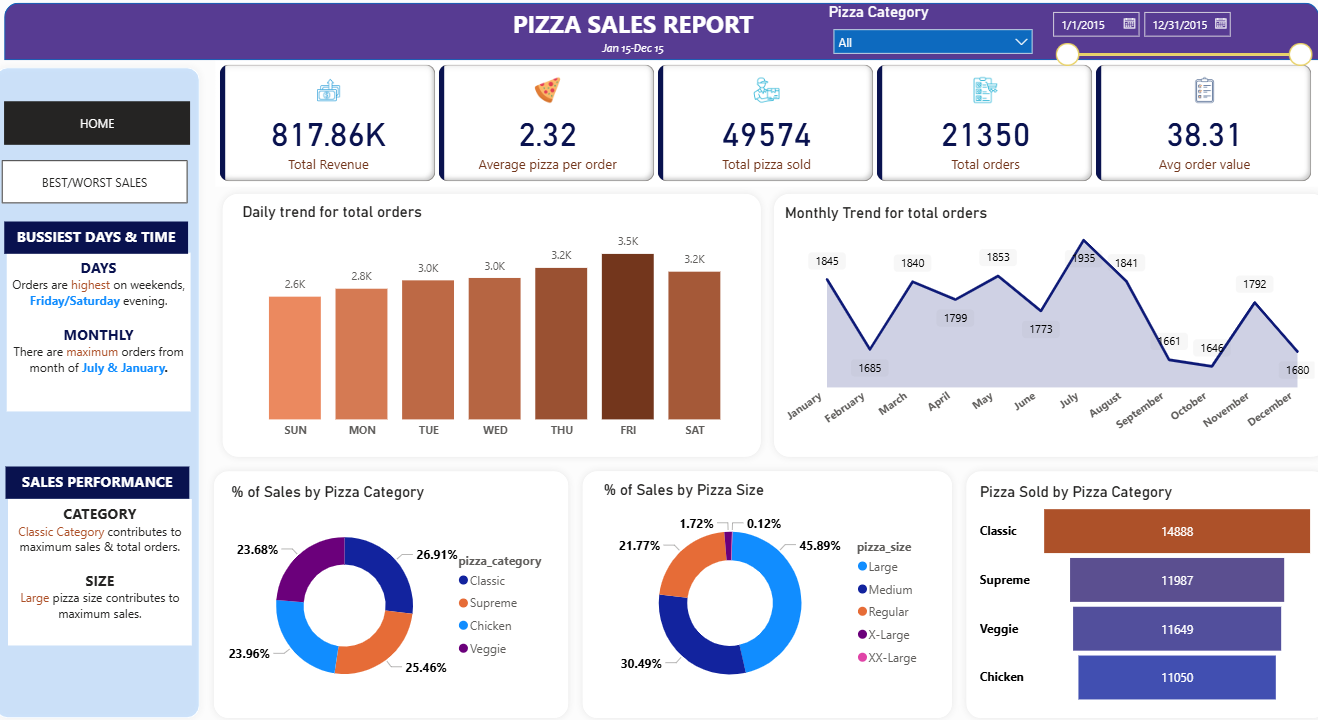

Layout of this report page (visuals, bound fields, positions):
{"tool":"powerbi","page":{"name":"HOME","canvas":[1500,820],"ordinal":0},"visuals":[{"type":"shape","box":[0,79.4,243.7,740.9],"z":0},{"type":"cardVisual","fields":{"Data":["pizza_sales.Total Revenue","pizza_sales.Average pizza per order","pizza_sales.Total pizza sold","pizza_sales.Total orders","pizza_sales.Avg order value"]},"box":[253.5,79.4,1229.7,140.7],"z":1000},{"type":"shape","box":[18.1,15.3,1465.1,64.1],"z":2000},{"type":"textbox","box":[537.6,15.3,362.1,50.1],"z":3000},{"type":"textbox","box":[664.3,51.5,108.6,27.9],"z":4000},{"type":"shape","box":[253.5,220,615.6,309.2],"z":5000},{"type":"columnChart","title":"Daily trend for total orders","fields":{"Category":["pizza_sales.Order day"],"Y":["pizza_sales.Total orders"]},"box":[278.5,238.1,573.8,271.6],"z":6000},{"type":"shape","box":[867.6,220,632.3,309.2],"z":7000},{"type":"areaChart","title":"Monthly Trend for total orders","fields":{"Category":["pizza_sales.Month Name"],"Y":["pizza_sales.Total orders"]},"box":[883,239.5,600.2,271.6],"z":8000},{"type":"shape","box":[654.6,529.2,427.5,291.1],"z":9000},{"type":"shape","box":[1082.1,529.2,417.8,291.1],"z":10000},{"type":"shape","box":[243.7,529.2,410.8,291.1],"z":11000},{"type":"donutChart","title":"% of Sales by Pizza Category","fields":{"Category":["pizza_sales.pizza_category"],"Y":["pizza_sales.Total Revenue"]},"box":[266,550.1,371.8,254.9],"z":12000},{"type":"donutChart","title":"% of Sales by Pizza Size","fields":{"Y":["pizza_sales.Total Revenue"],"Category":["pizza_sales.pizza_size"]},"box":[681,547.3,371.8,254.9],"z":13000},{"type":"funnel","title":"Pizza Sold by Pizza Category","fields":{"Category":["pizza_sales.pizza_category"],"Y":["pizza_sales.Total pizza sold"]},"box":[1100.2,550.1,383,252.1],"z":14000},{"type":"slicer","title":"Pizza Category","fields":{"Values":["pizza_sales.pizza_category"]},"box":[931.7,15.3,242.3,64.1],"z":15000},{"type":"slicer","fields":{"Values":["pizza_sales.order_date"]},"box":[1174,15.3,309.2,83.6],"z":16000},{"type":"textbox","box":[20.9,293.9,204.7,176.9],"z":17000},{"type":"textbox","box":[18.1,259,204.7,36.2],"z":18000},{"type":"textbox","box":[22.3,568.2,204.7,162.9],"z":19000},{"type":"textbox","box":[19.5,532,204.7,36.2],"z":20000},{"type":"pageNavigator","box":[18.1,125.3,207.5,48.7],"z":20001},{"type":"pageNavigator","box":[15.3,190.8,207.5,48.7],"z":20002}]}

Visuals, with their boxes in screenshot pixels (x1, y1, x2, y2), scaled from the page's 1500x820 canvas onto the 1318x720 screenshot:
shape: <box>0,70,214,719</box>
cardVisual - pizza_sales.Total Revenue x pizza_sales.Average pizza per order: <box>223,70,1303,193</box>
shape: <box>16,13,1303,70</box>
textbox: <box>472,13,791,57</box>
textbox: <box>584,45,679,70</box>
shape: <box>223,193,764,465</box>
"Daily trend for total orders" columnChart: <box>245,209,749,448</box>
shape: <box>762,193,1317,465</box>
"Monthly Trend for total orders" areaChart: <box>776,210,1303,449</box>
shape: <box>575,465,951,719</box>
shape: <box>951,465,1317,719</box>
shape: <box>214,465,575,719</box>
"% of Sales by Pizza Category" donutChart: <box>234,483,560,707</box>
"% of Sales by Pizza Size" donutChart: <box>598,481,925,704</box>
"Pizza Sold by Pizza Category" funnel: <box>967,483,1303,704</box>
"Pizza Category" slicer: <box>819,13,1032,70</box>
slicer - pizza_sales.order_date: <box>1032,13,1303,87</box>
textbox: <box>18,258,198,413</box>
textbox: <box>16,227,196,259</box>
textbox: <box>20,499,199,642</box>
textbox: <box>17,467,197,499</box>
pageNavigator: <box>16,110,198,153</box>
pageNavigator: <box>13,168,196,210</box>
